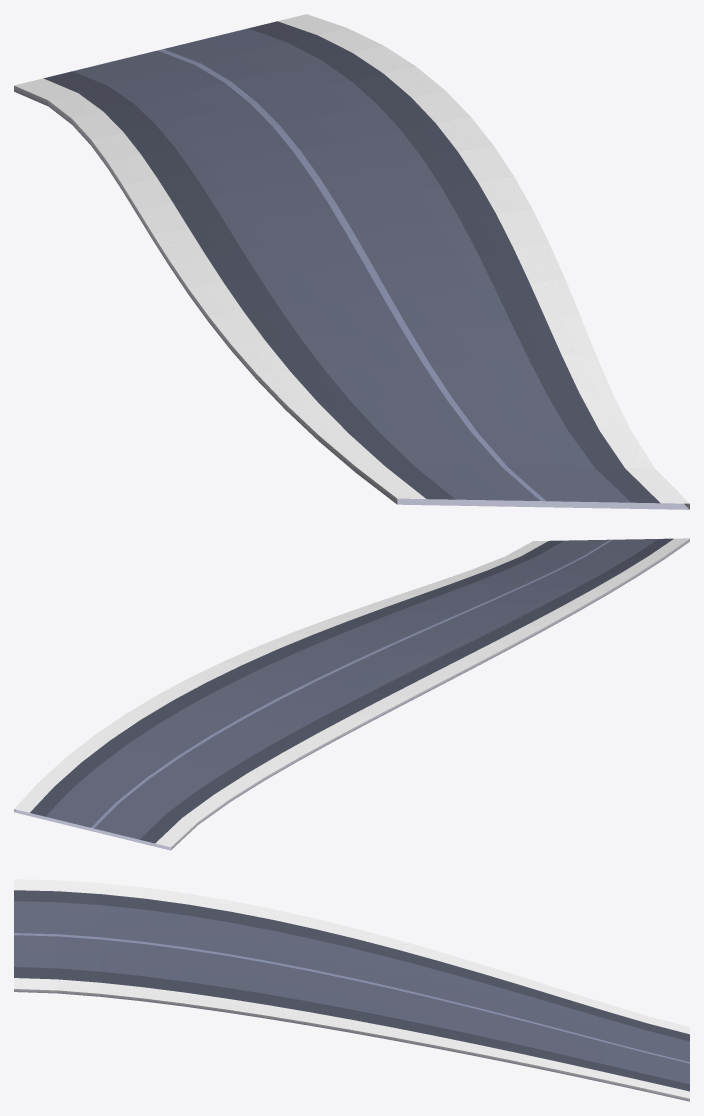
File: road-Chicane-HalfBankedRight-BiSlopeDown-Down1-Right1-Size4.glb
3 renders of one model, top to bottom at view 1: azimuth 30°, elevation 25°; view 2: azimuth 150°, elevation 25°; view 3: azimuth 270°, elevation 25°, orthographic. The views are drawn at different scales.
Visible parts, largest first — view 1: road-Chicane-HalfBankedRight-BiSlopeDown-Down1-Right1-Size4; view 2: road-Chicane-HalfBankedRight-BiSlopeDown-Down1-Right1-Size4; view 3: road-Chicane-HalfBankedRight-BiSlopeDown-Down1-Right1-Size4.
Part boxes in pixels (bbox=[...]): road-Chicane-HalfBankedRight-BiSlopeDown-Down1-Right1-Size4: bbox=[14, 14, 689, 509]; road-Chicane-HalfBankedRight-BiSlopeDown-Down1-Right1-Size4: bbox=[14, 538, 689, 850]; road-Chicane-HalfBankedRight-BiSlopeDown-Down1-Right1-Size4: bbox=[14, 879, 689, 1101].
Size of the model in its own units: 2 by 0.52 by 4.
Materials: 1 (1 with a texture image).
